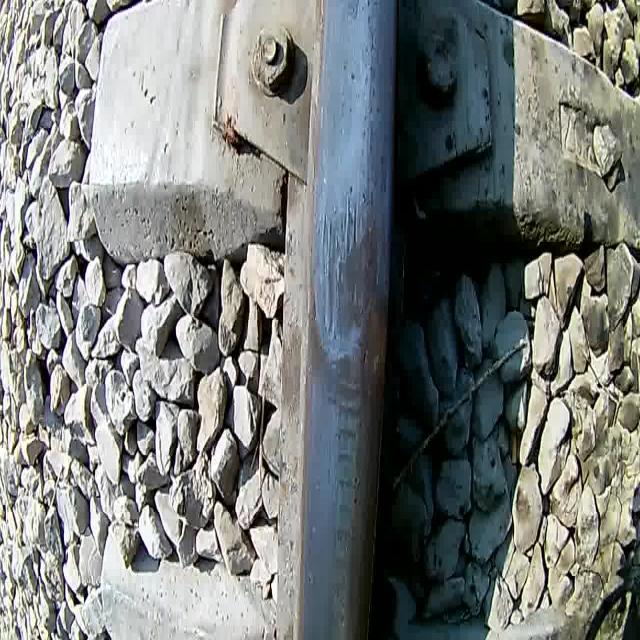Squats: (301, 178, 391, 426), (328, 424, 361, 640)
